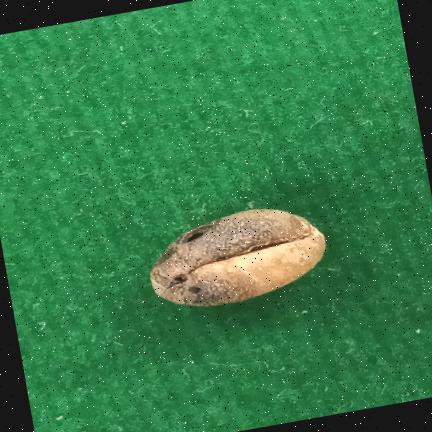partial-black: (151, 209, 326, 307)
